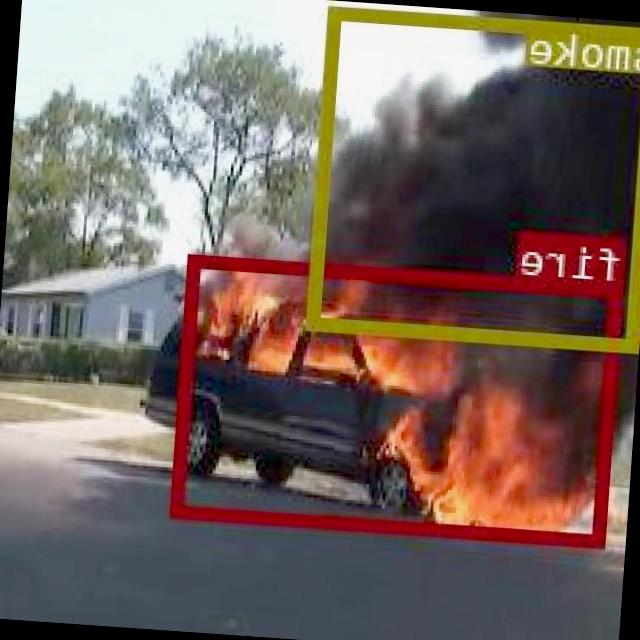fire: (172, 250, 626, 544)
smoke: (310, 4, 640, 349)
